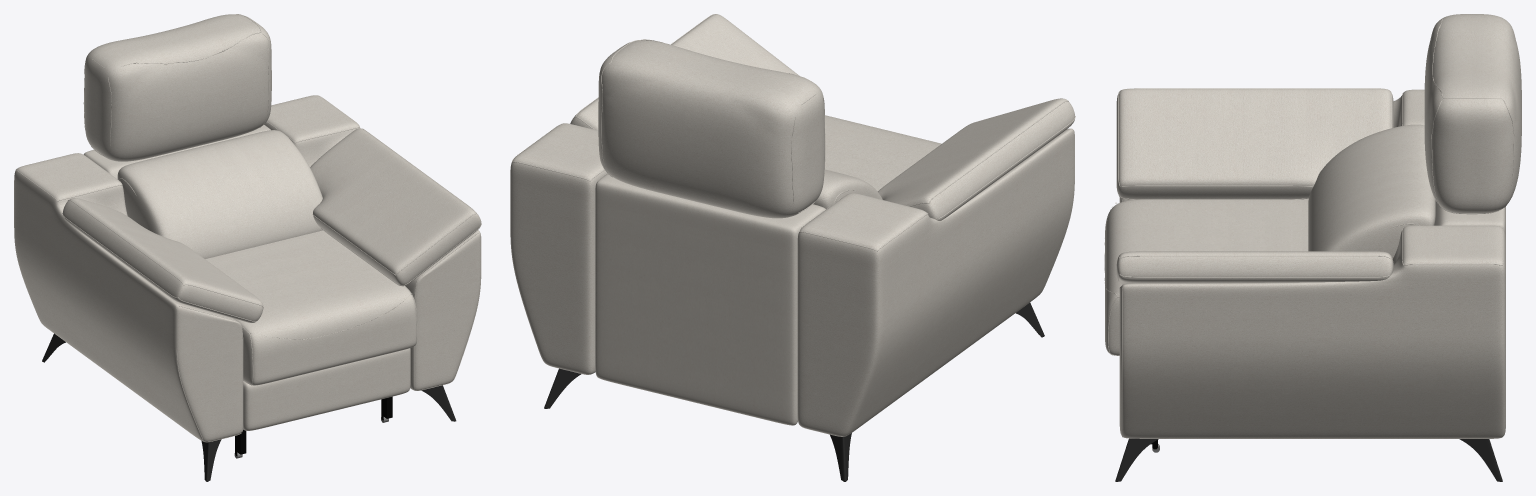
The model's file is meiple.glb.
3 views of the same model, side by side, from view 1: azimuth 30°, elevation 25°; view 2: azimuth 150°, elevation 25°; view 3: azimuth 270°, elevation 25° (orthographic). The views are drawn at different scales.
Parts seen in each view (by area): view 1: object 6, assento, object 21, object 28, object 11, object 9, object 4, Costa; view 2: object 6, Costa, object 21, object 9, object 4, assento, object 11, object 28, object 2; view 3: object 9, object 4, object 21, object 28, assento, object 11, D=~ 0,00 m (×2), object 6, Costa, object 8, object 7.
Boxes of the visible parts, x1,y1,x2,y2 form: object 6: (14,153,242,441); assento: (205,230,416,458); object 21: (84,14,271,161); object 28: (117,130,322,258); object 11: (310,128,481,286); object 9: (264,95,480,390); object 4: (62,198,263,322); Costa: (83,125,270,178); object 6: (797,128,1074,436); Costa: (595,173,825,425); object 21: (598,40,824,218); object 9: (510,123,607,374); object 4: (877,98,1075,220); assento: (825,115,941,191); object 11: (570,14,799,130); object 28: (813,169,882,208); object 2: (830,433,851,481); object 9: (1119,225,1505,438); object 4: (1116,88,1393,198); object 21: (1424,14,1521,213); object 28: (1308,124,1435,258); assento: (1105,199,1308,452); object 11: (1116,251,1393,284); D=~ 0,00 m (×2): (1118,88,1391,258); object 6: (1119,89,1424,202); Costa: (1434,200,1505,239); object 8: (1115,438,1158,481); object 7: (1459,439,1502,481).
Size of the model in its own units: 1.1 by 1.04 by 1.1.
Materials: 5 (1 with a texture image).
